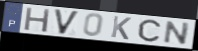0: (81, 13, 106, 38)
C: (137, 19, 162, 43)
H: (23, 6, 52, 34)
K: (110, 15, 133, 41)
N: (162, 20, 192, 46)
V: (53, 8, 82, 36)
